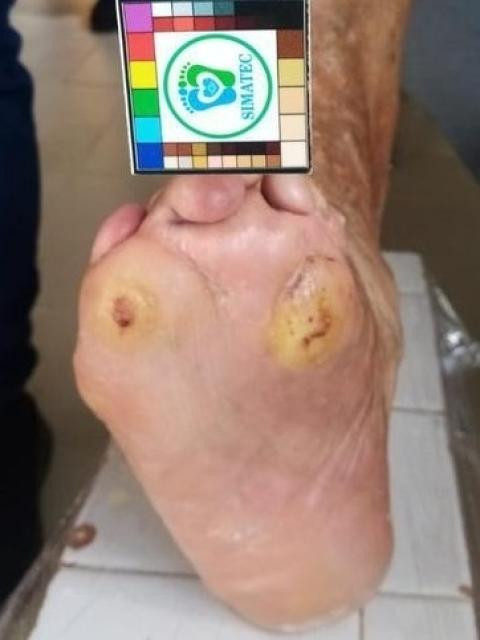wound: (263, 254, 342, 369), (106, 288, 147, 338)
